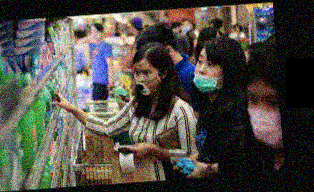mask_weared_incorrect: (191, 51, 223, 93)
with_mask: (244, 84, 280, 147), (132, 65, 162, 96)
without_mask: (89, 28, 102, 42)
